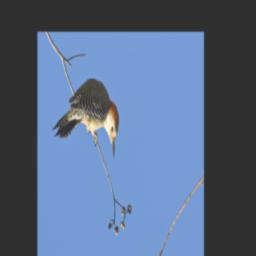Woodpecker: (50, 76, 125, 162)
